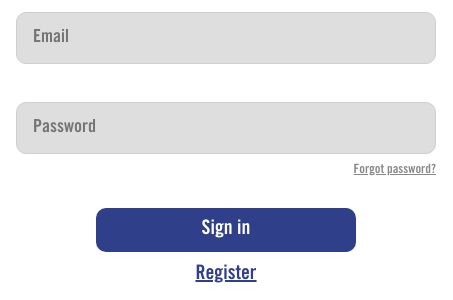
it: shows error on invalid credentials
The image size is (453, 300).
Step 1. Type "bad@test.com" into the field with placeholder "Email" → {"x": 226, "y": 38}, box [16, 12, 436, 64]
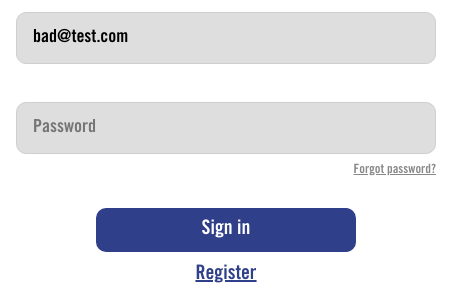
Step 2. Type "wrong" into the password field with placeholder "Password" → {"x": 226, "y": 128}, box [16, 102, 436, 154]
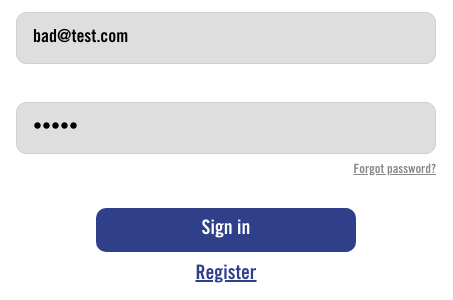
Step 3. Click the button "Sign in" → {"x": 226, "y": 230}, box [96, 208, 356, 252]
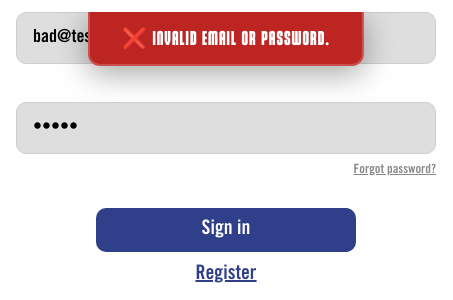
Now the text "❌ Invalid email or password." is shown, box [88, 12, 364, 66]
